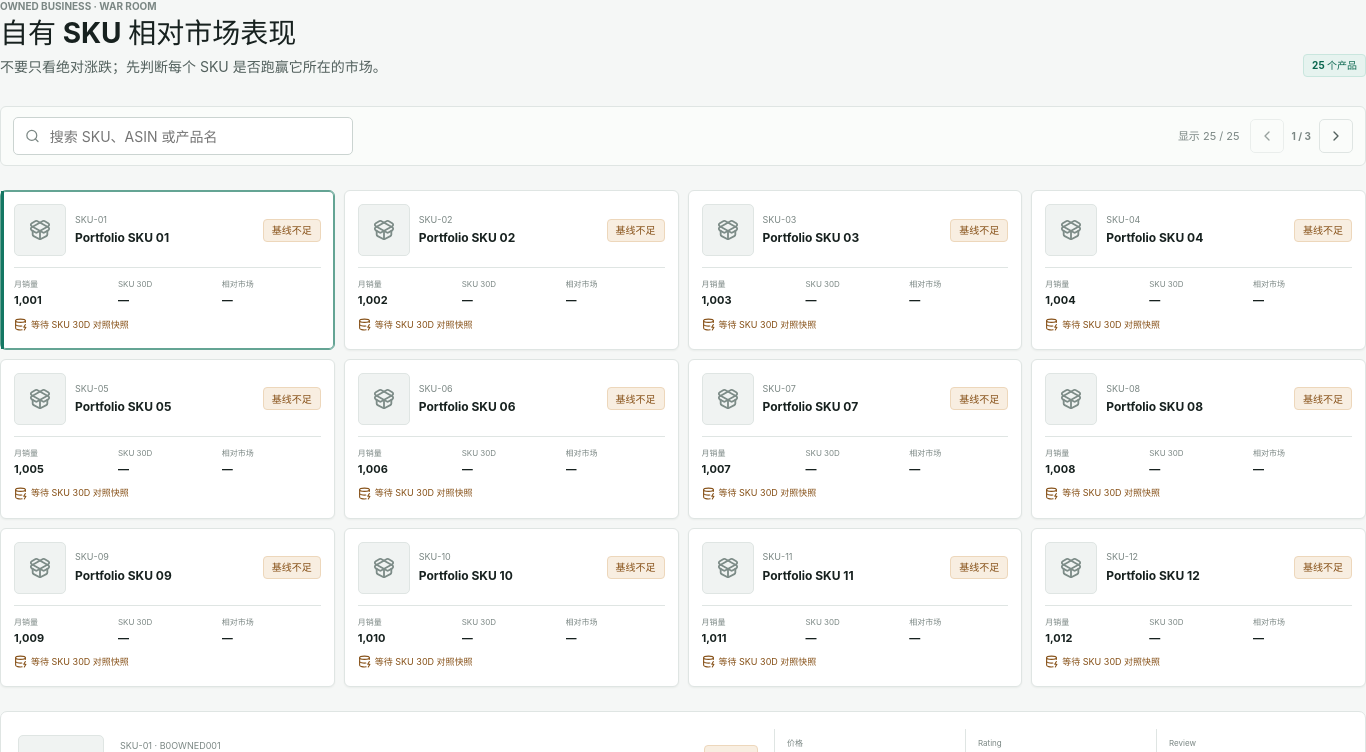
it: OwnedProductsPage large portfolio selector › filters and paginates a 25-product portfolio without hiding the total
Expected: the text "25 个产品" is shown, [1303,54,1365,77]
Expected: the text "Portfolio SKU 01" is shown, [75,230,169,245]
Click the button named "下一页".
click(1336, 136)  # box [1319,119,1353,153]
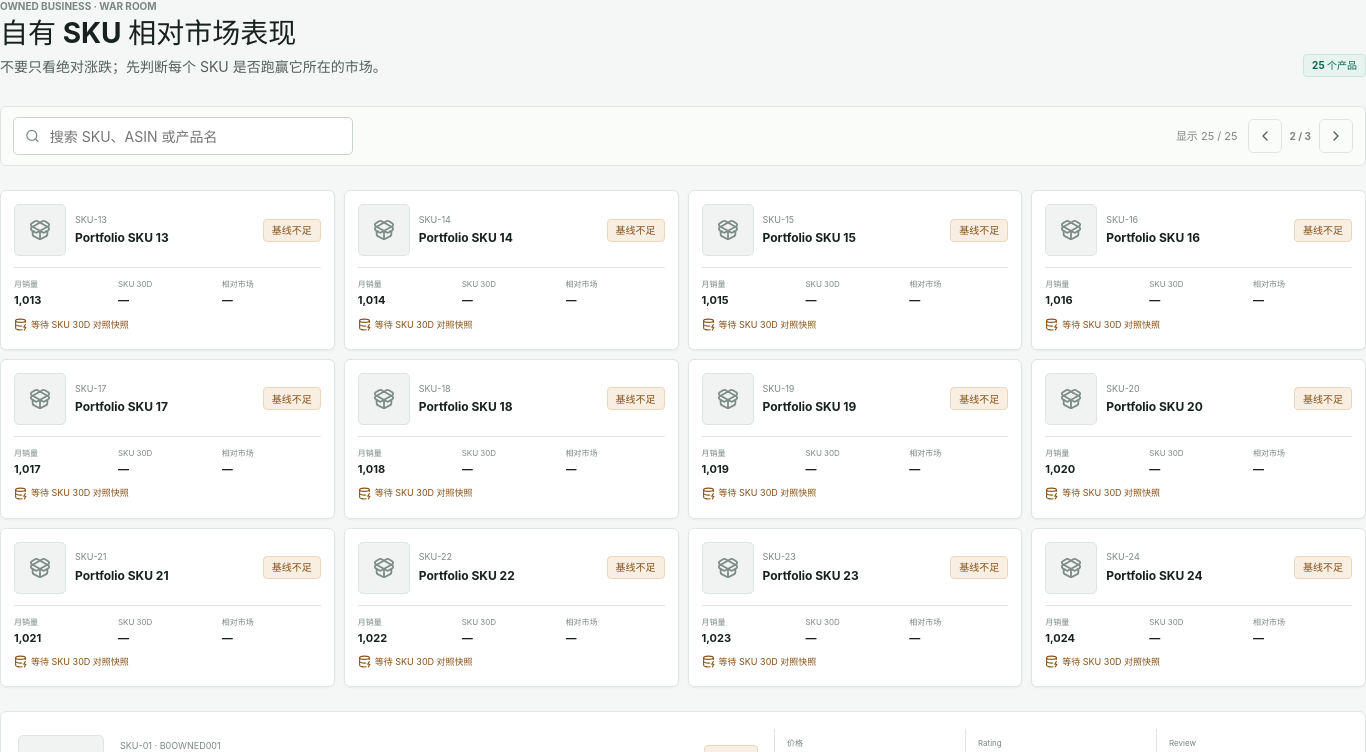
Result: the text "Portfolio SKU 13" is shown at [75,230,169,245]
Type "SKU 25" into the search field named "搜索自有 SKU".
click(194, 136); type("SKU 25")  # box [48,118,341,154]
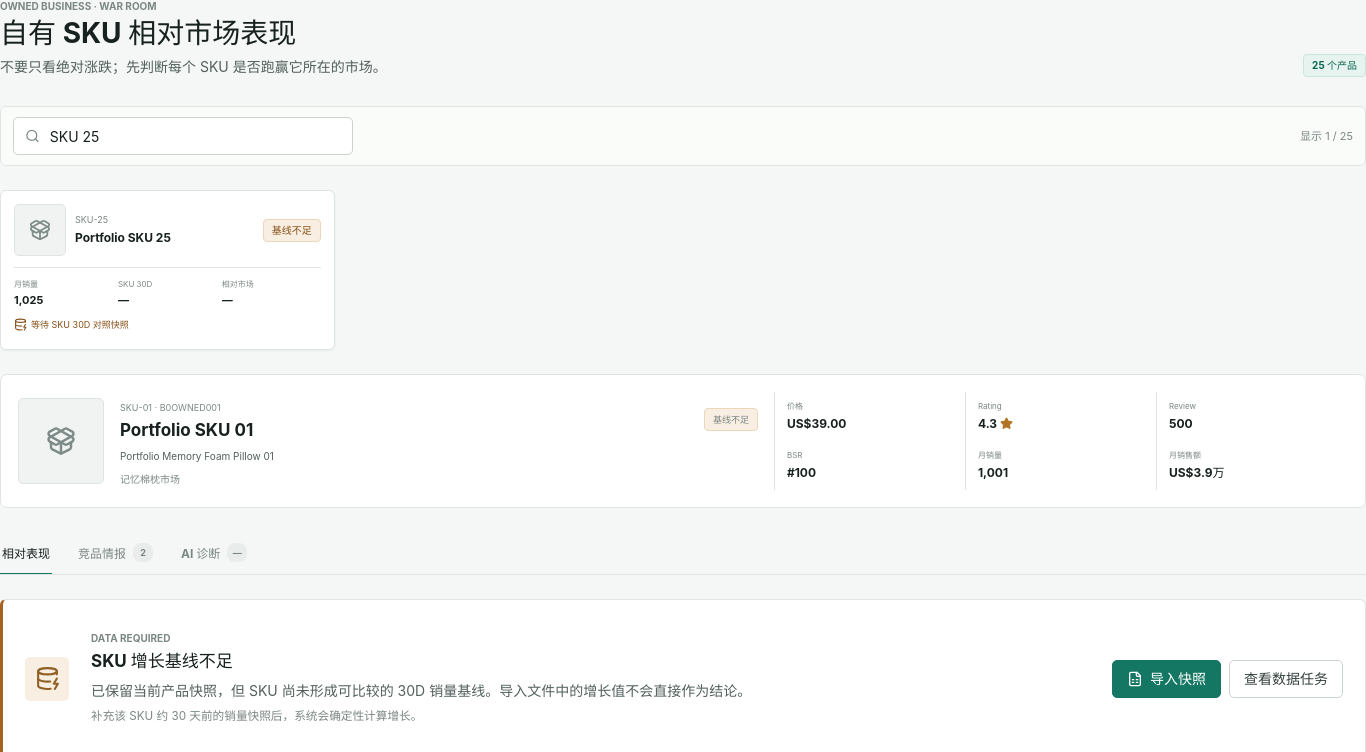
Result: the text "Portfolio SKU 25" is shown at [75,230,171,245]
Result: the text "显示 1 / 25" is shown at [1300,128,1353,144]
